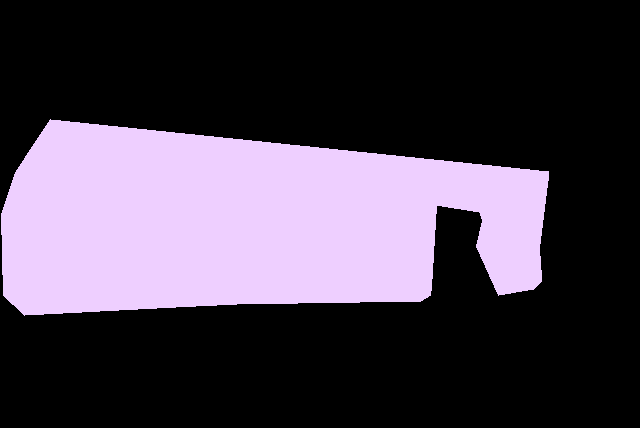Train: (1, 119, 548, 316)
